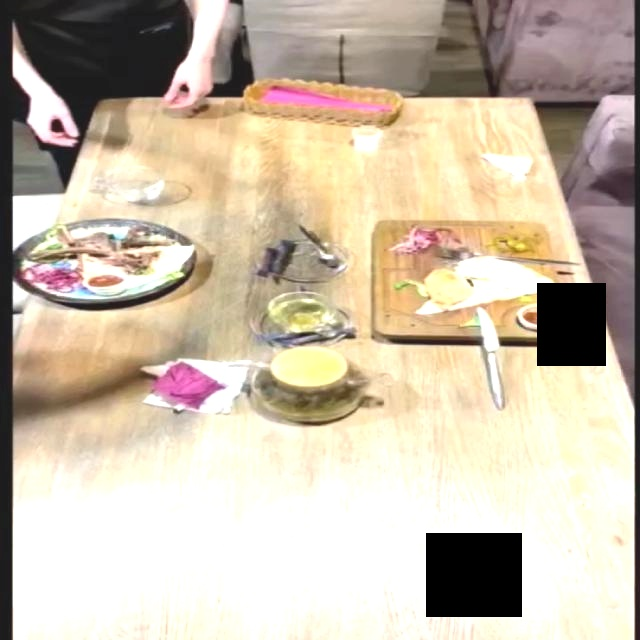meat: (0, 205, 200, 337), (365, 215, 569, 344)
tea: (236, 341, 367, 439)
